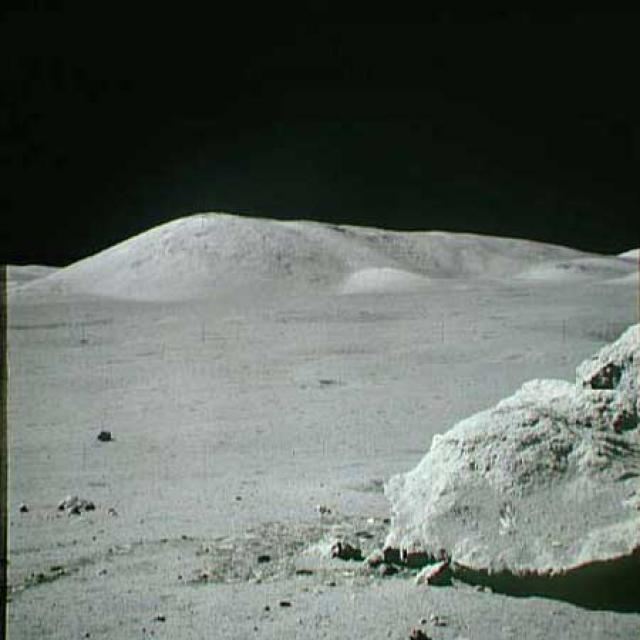artifact: (307, 494, 369, 561)
crater: (236, 300, 447, 326), (382, 343, 532, 367)
rock: (372, 374, 638, 589), (559, 316, 640, 388), (411, 558, 456, 588), (53, 491, 90, 516), (95, 428, 118, 446)
